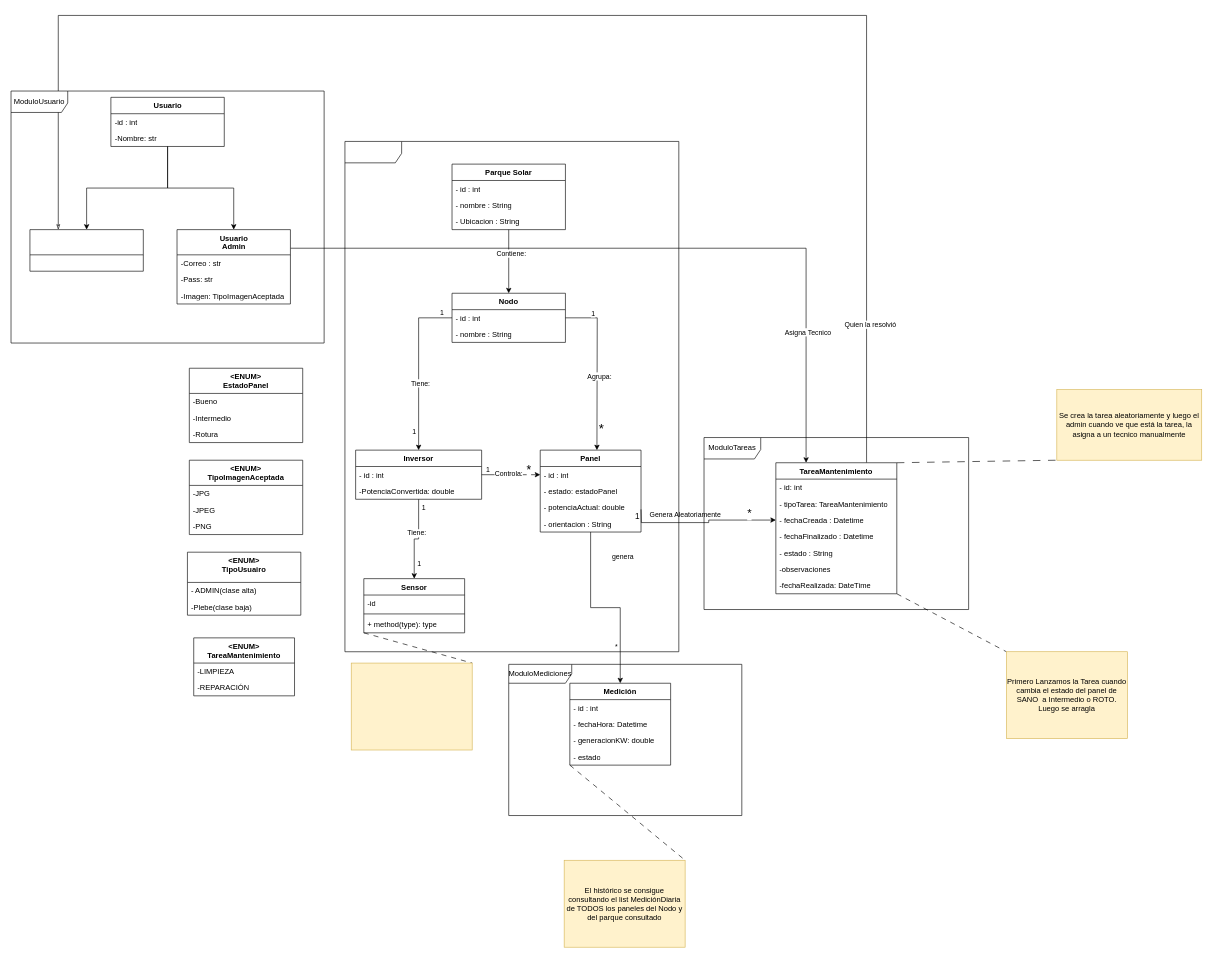
Image size: 1213x958. Some labels were removed from this diagram. Here are the shapes that lost their labels. From the top down, the centre of each, then its label:
point 86,250: Usuario Tecnico
point 511,396: Moduilo Parque
point 411,706: El sensor tendrá una API Publica con la clual el Usuario se comunicará
